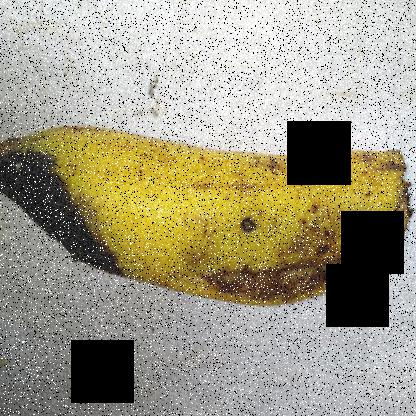rotten: (186, 197, 416, 342), (1, 109, 149, 312)
